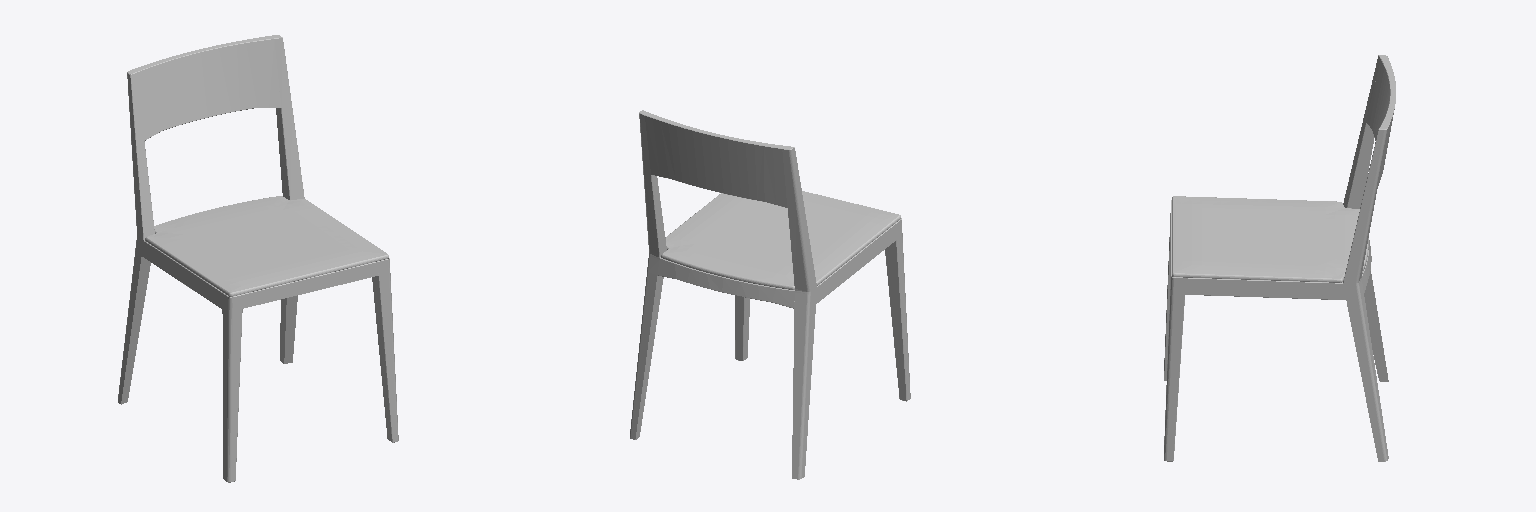
The picture shows the model from 3 angles: view 1: azimuth 30°, elevation 25°; view 2: azimuth 150°, elevation 25°; view 3: azimuth 270°, elevation 25°; orthographic projection.
Parts seen in each view (by area): view 1: IC87; view 2: IC87; view 3: IC87.
Boxes of the visible parts, <box> form: IC87: <box>118,35,398,482</box>; IC87: <box>630,110,910,479</box>; IC87: <box>1164,55,1395,461</box>.
Bounding box in the file's own units: 450 × 820 × 528.